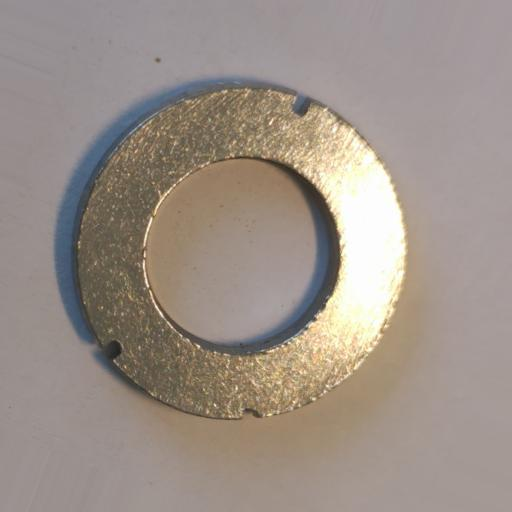burr: (291, 94, 311, 116), (103, 339, 123, 360), (240, 407, 262, 421)
